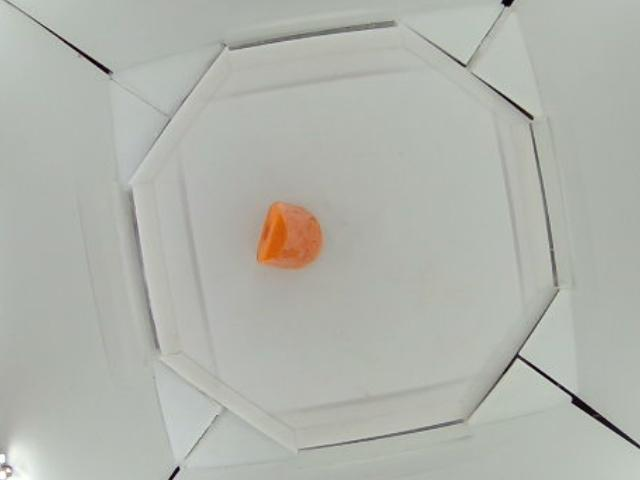Carrot: (259, 203, 323, 269)
